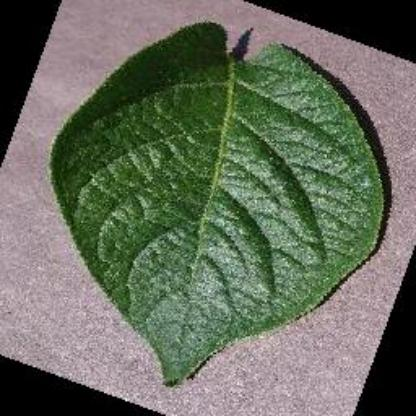Healthy-plant: (49, 17, 387, 387)
